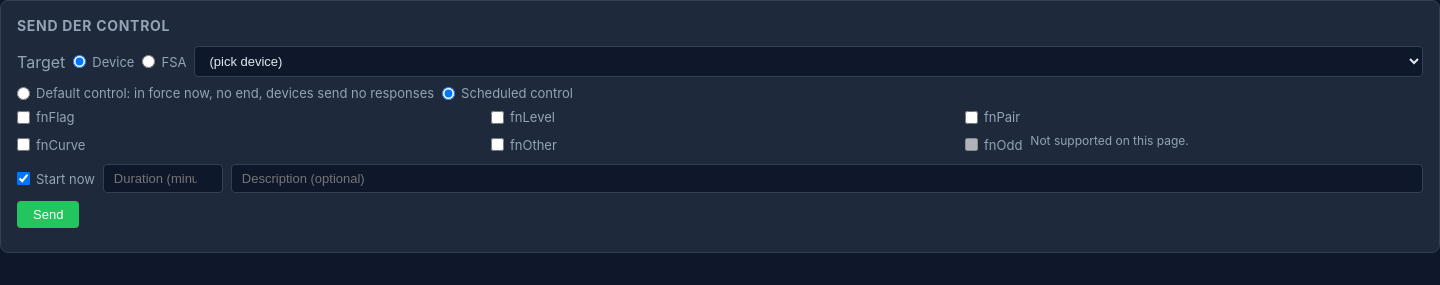
DerControl: a scheduled control with several functions › refuses a send with no device picked
The image size is (1440, 285).
Click the checkbox with test id "control-fn-fnFlag". click: point(24, 117)
box: x1=17 y1=110 x2=30 y2=124
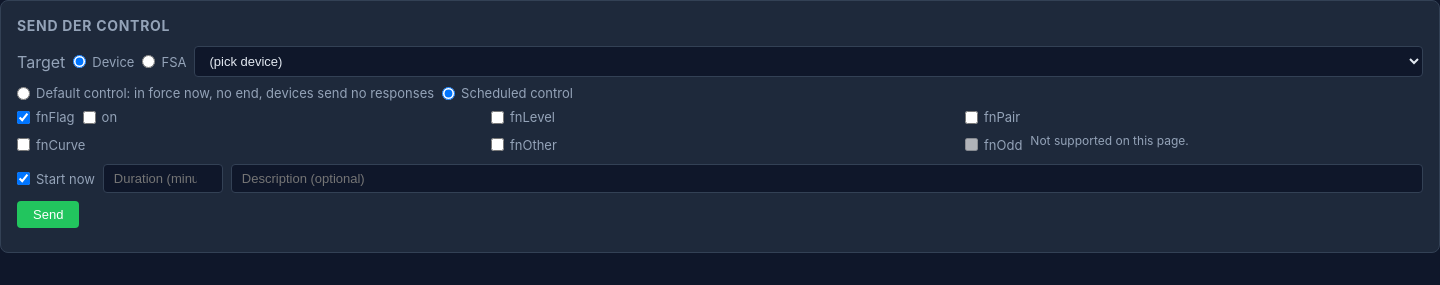
Type "5" into the number field with id "controlDuration". click: point(163, 178)
box: x1=103 y1=164 x2=223 y2=193
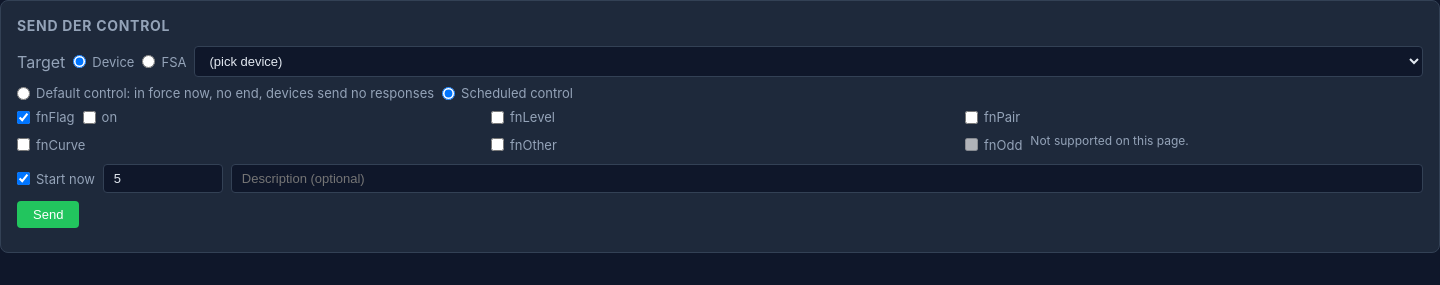
Click the button "Send". click: point(48, 214)
box: x1=17 y1=201 x2=79 y2=228
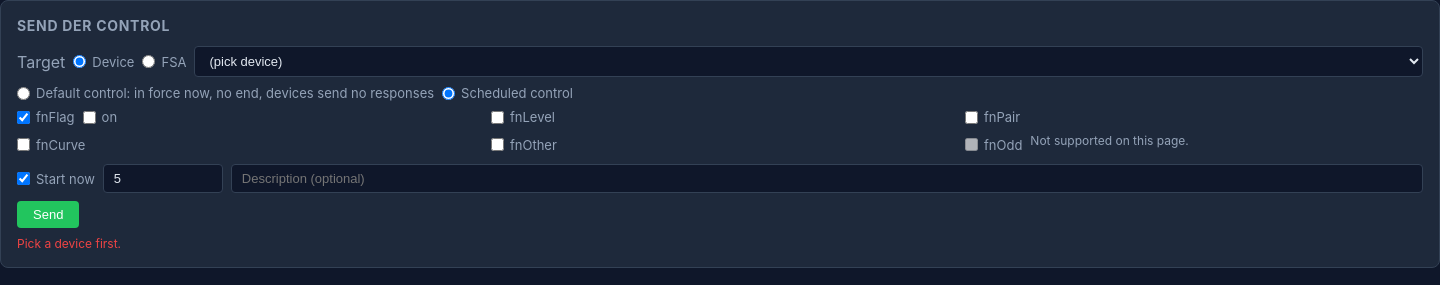
Expected: the text with id "controlResult" reads "Pick a device first.", x1=17 y1=236 x2=121 y2=251
